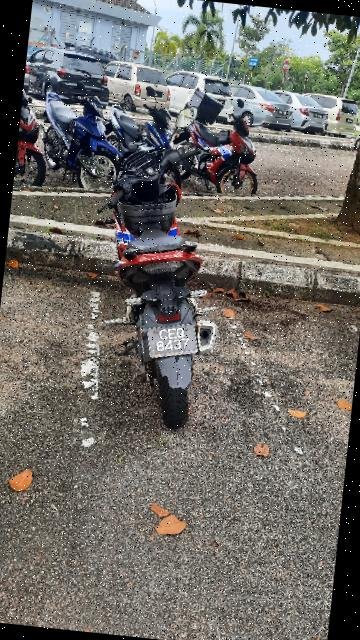License_Plate: (144, 314, 209, 367)
motorcycle: (46, 75, 281, 444)
